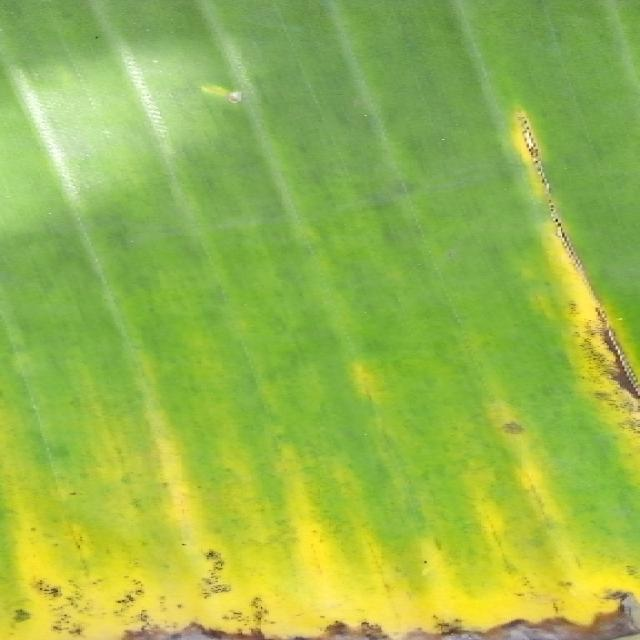Cordana: (0, 310, 640, 640), (461, 109, 640, 498)
